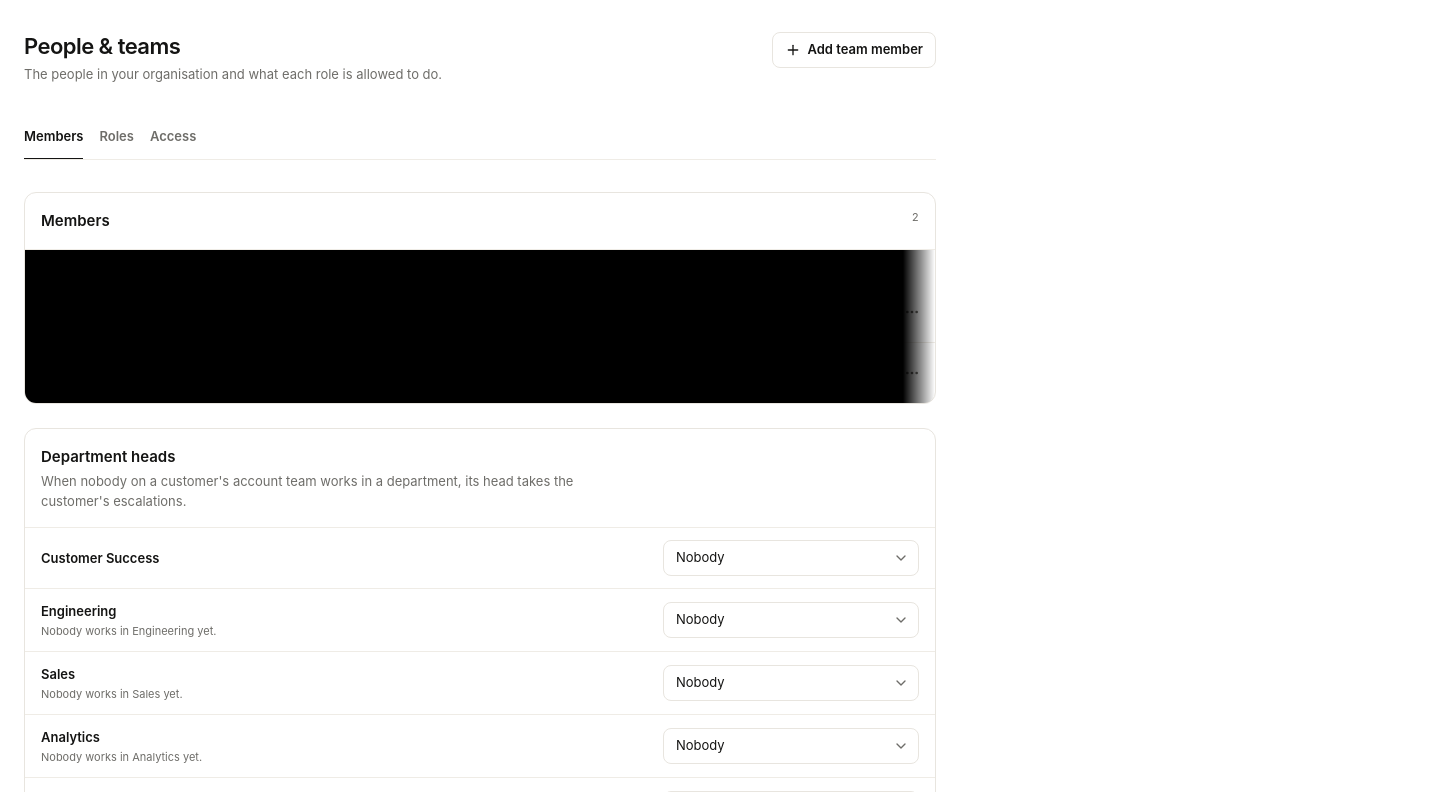
UserManagement page › Edit: focus starts on the name and returns to the row menu on cancel and on save
Click the button named "Actions for Carl CSM".
click(912, 373)  # box 894,355 -> 930,391
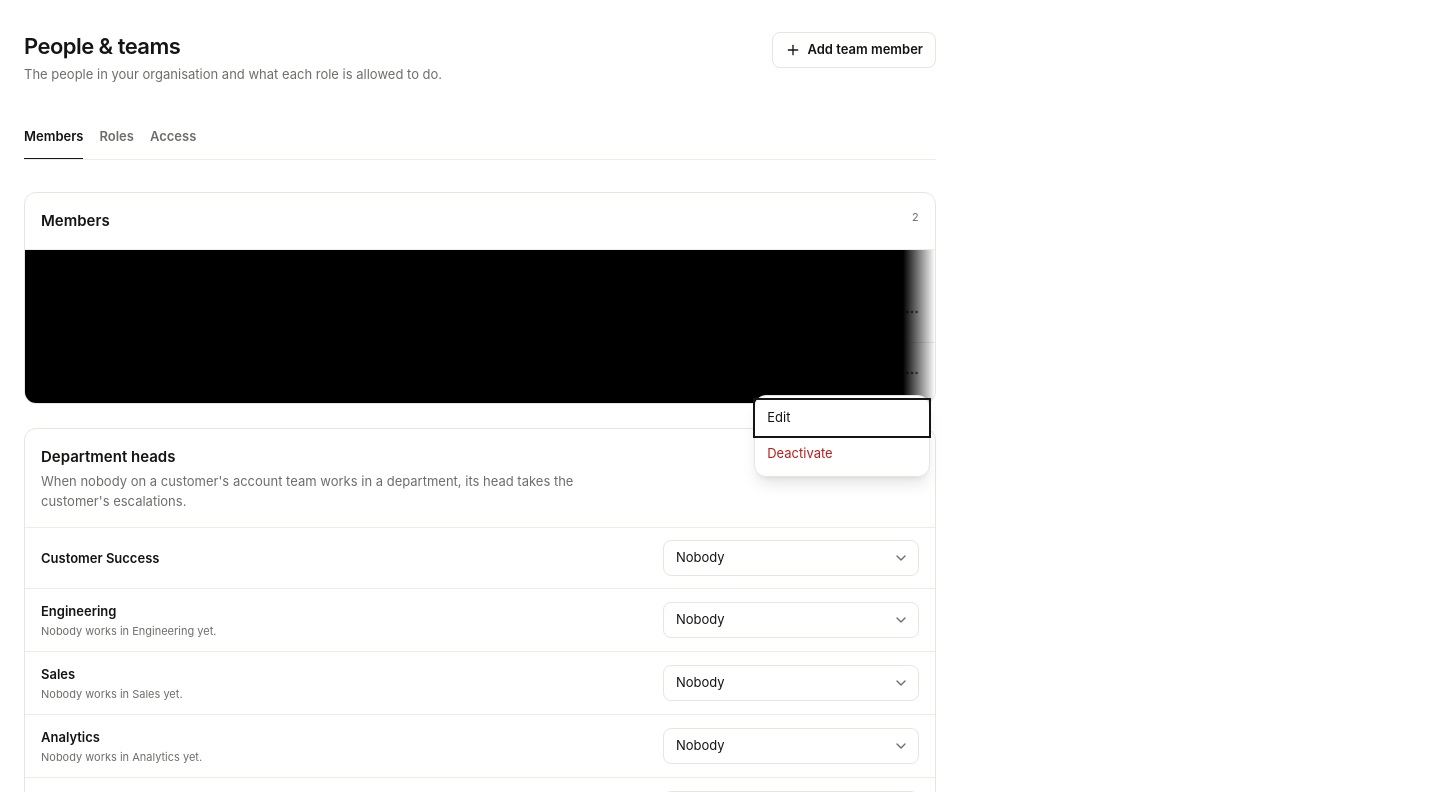
Click the menu item "Edit".
click(842, 418)  # box 755,400 -> 929,436
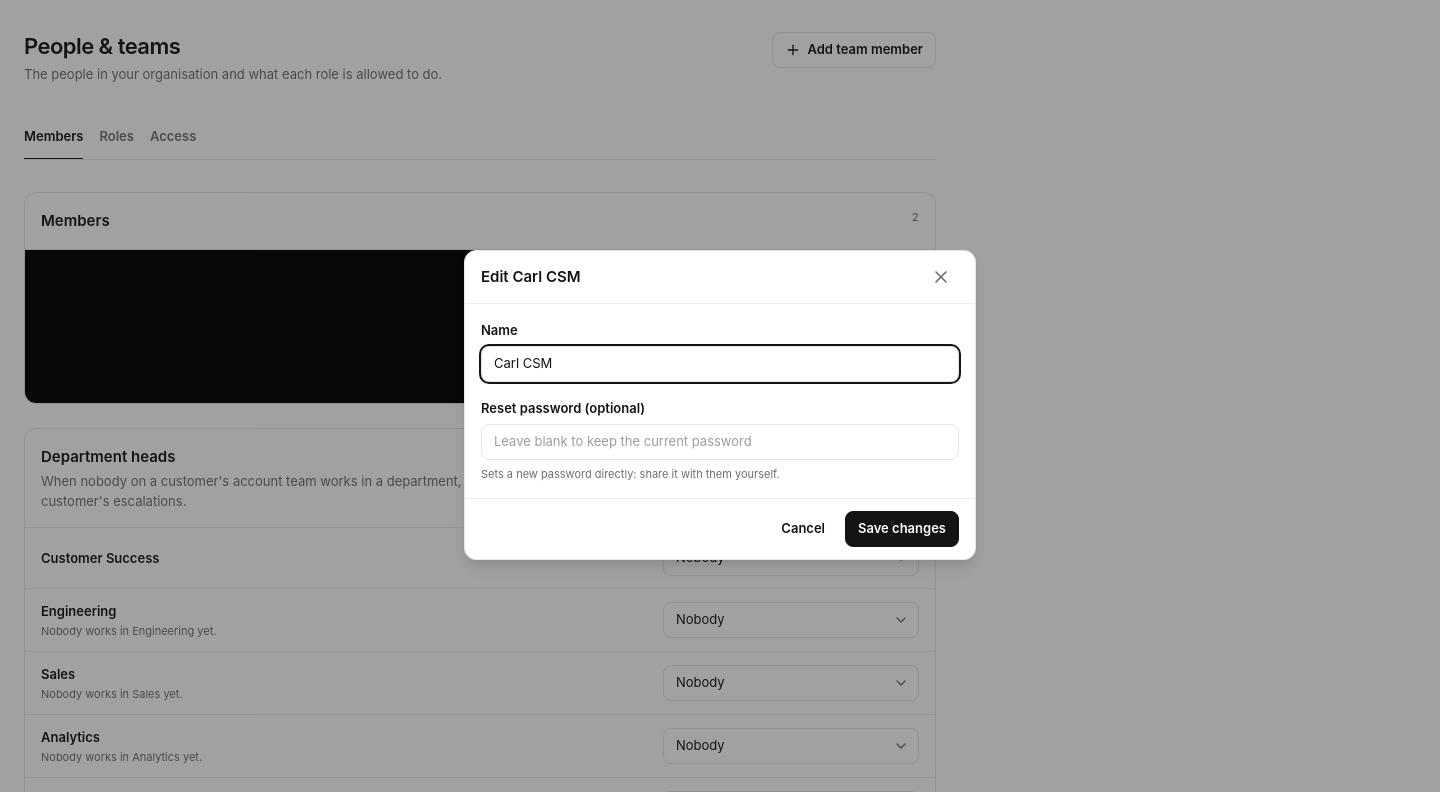
Click the button "Cancel".
click(803, 529)  # box 769,511 -> 837,547
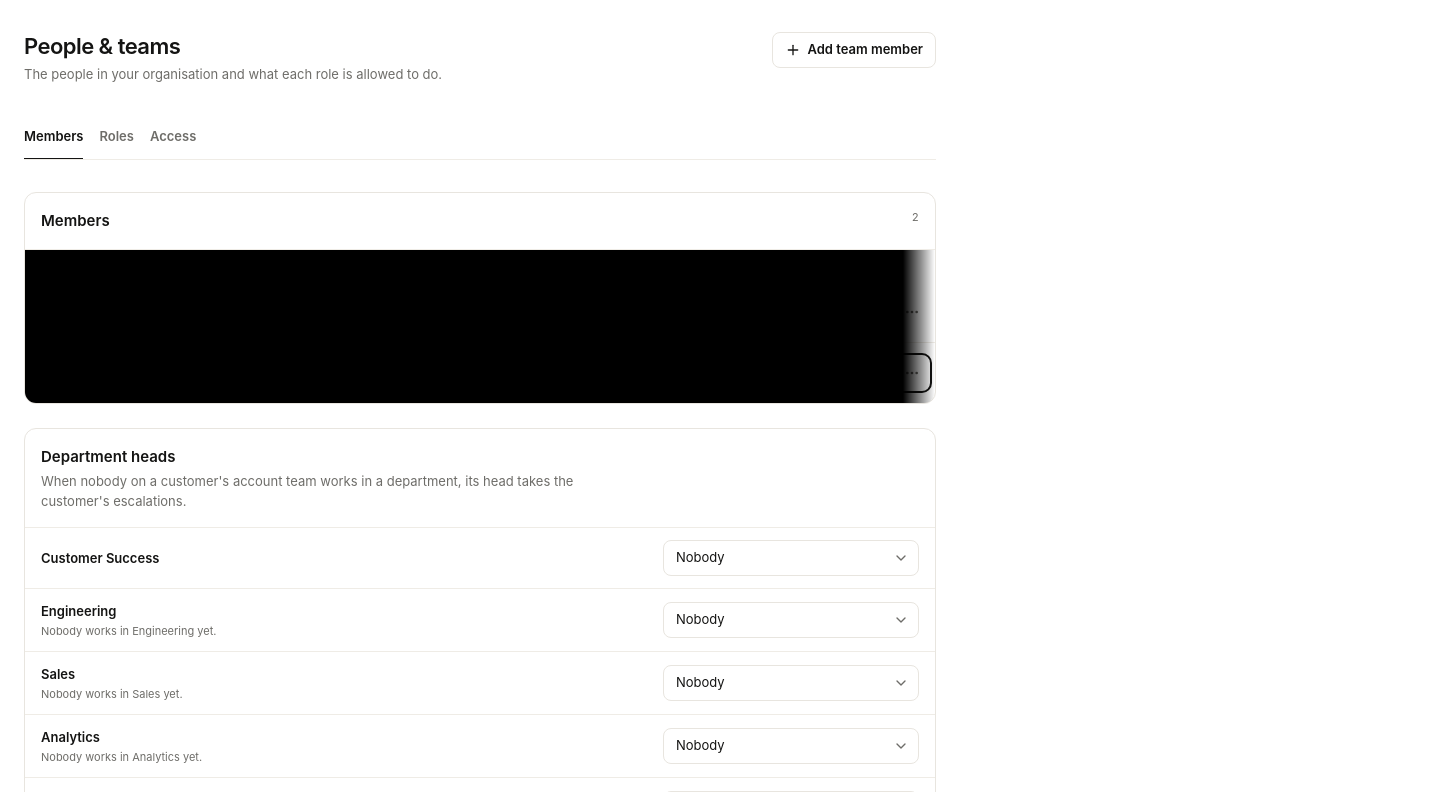
Click the button named "Actions for Carl CSM".
click(912, 373)  # box 894,355 -> 930,391
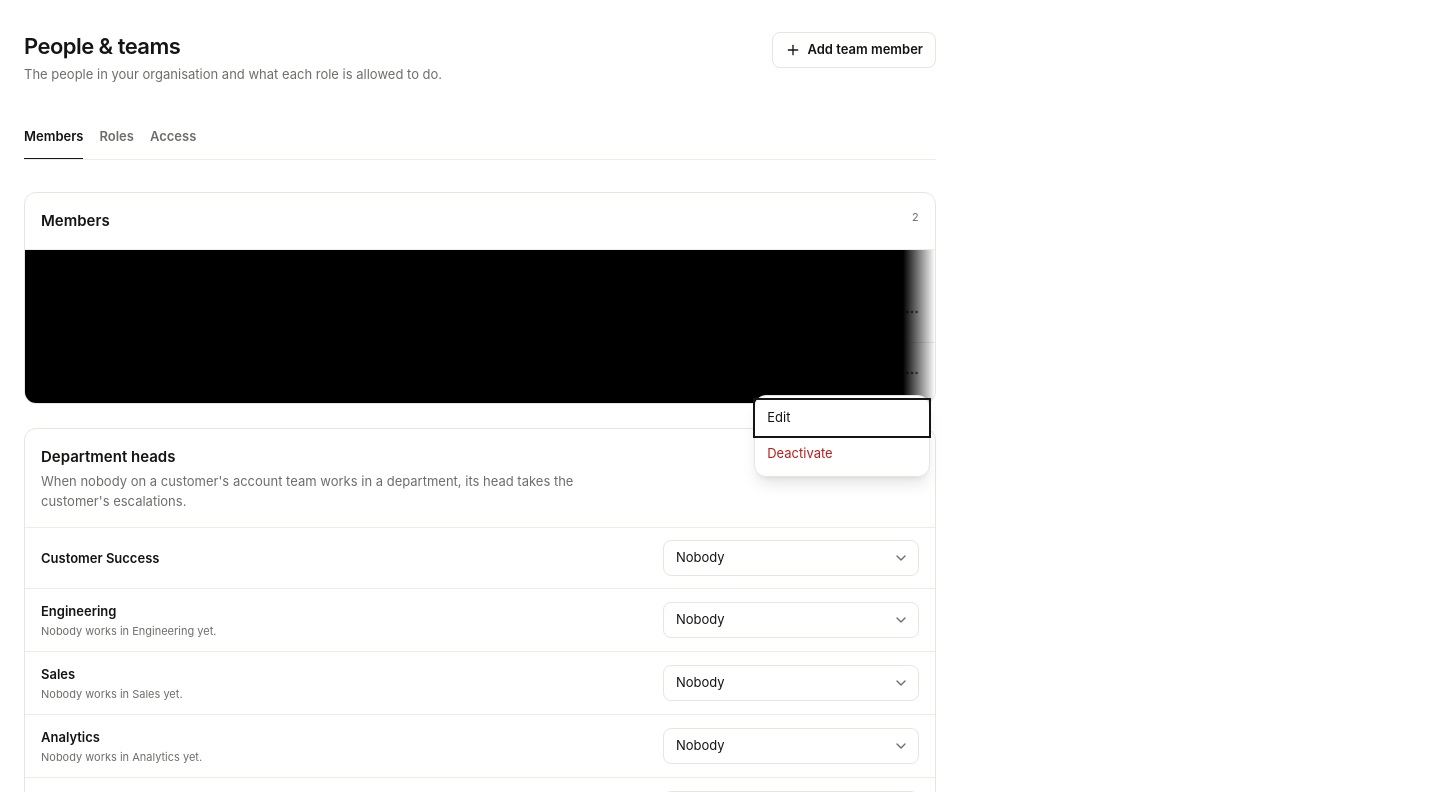
Click the menu item "Edit".
click(842, 418)  # box 755,400 -> 929,436
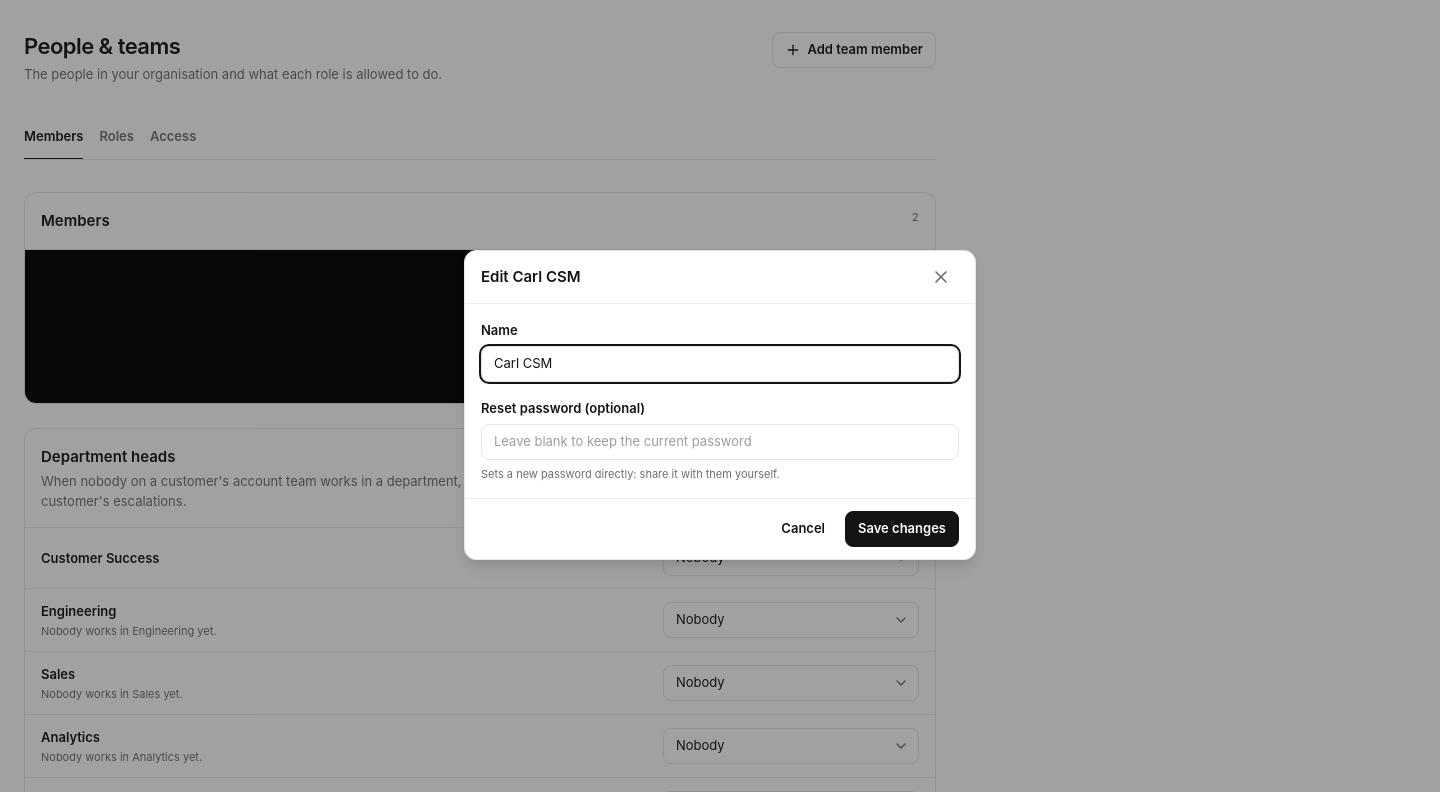
Type " X" into the field labelled "Name".
click(720, 364); type(" X")  # box 481,346 -> 959,382
Click the button "Save changes".
click(902, 529)  # box 845,511 -> 959,547
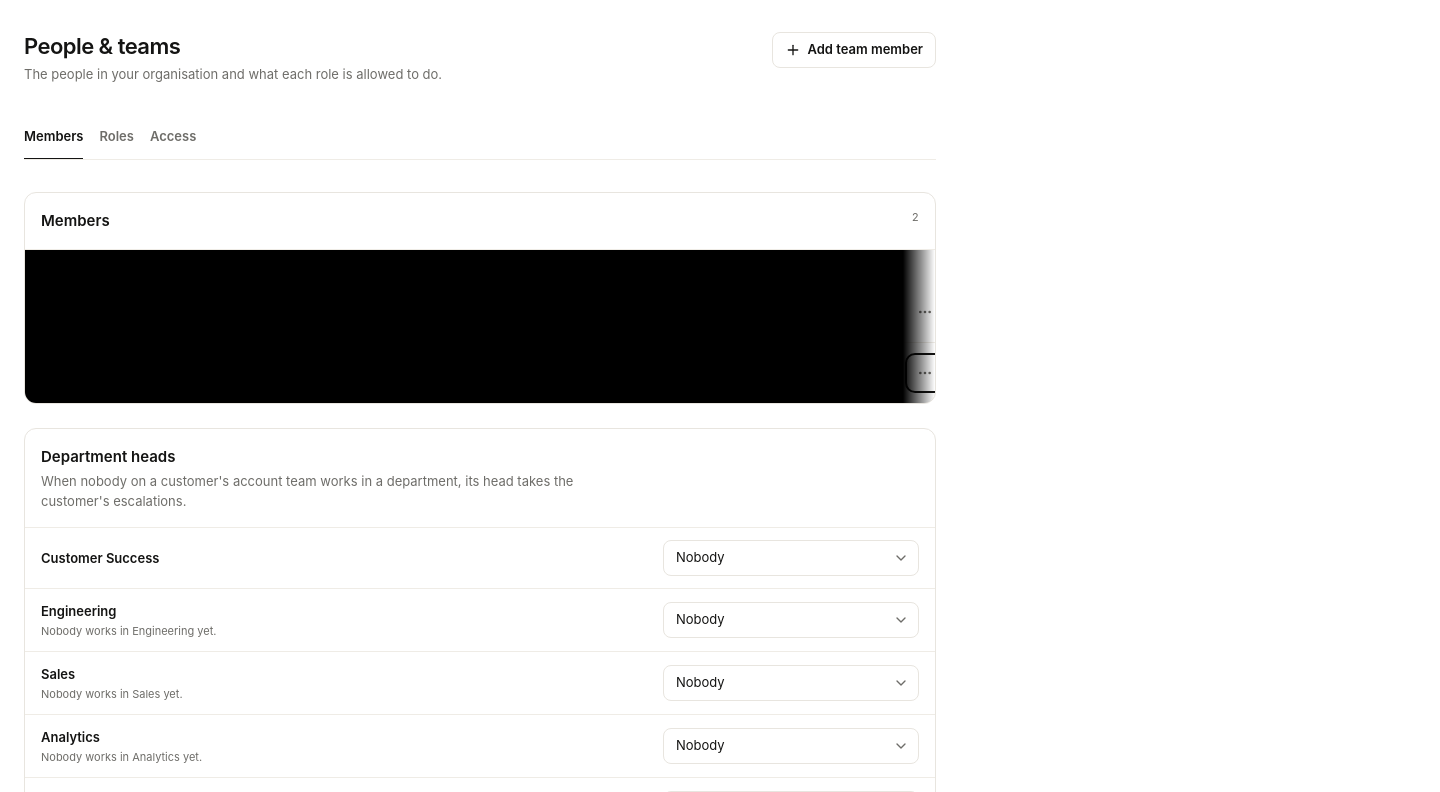
Check: the dialog is gone
